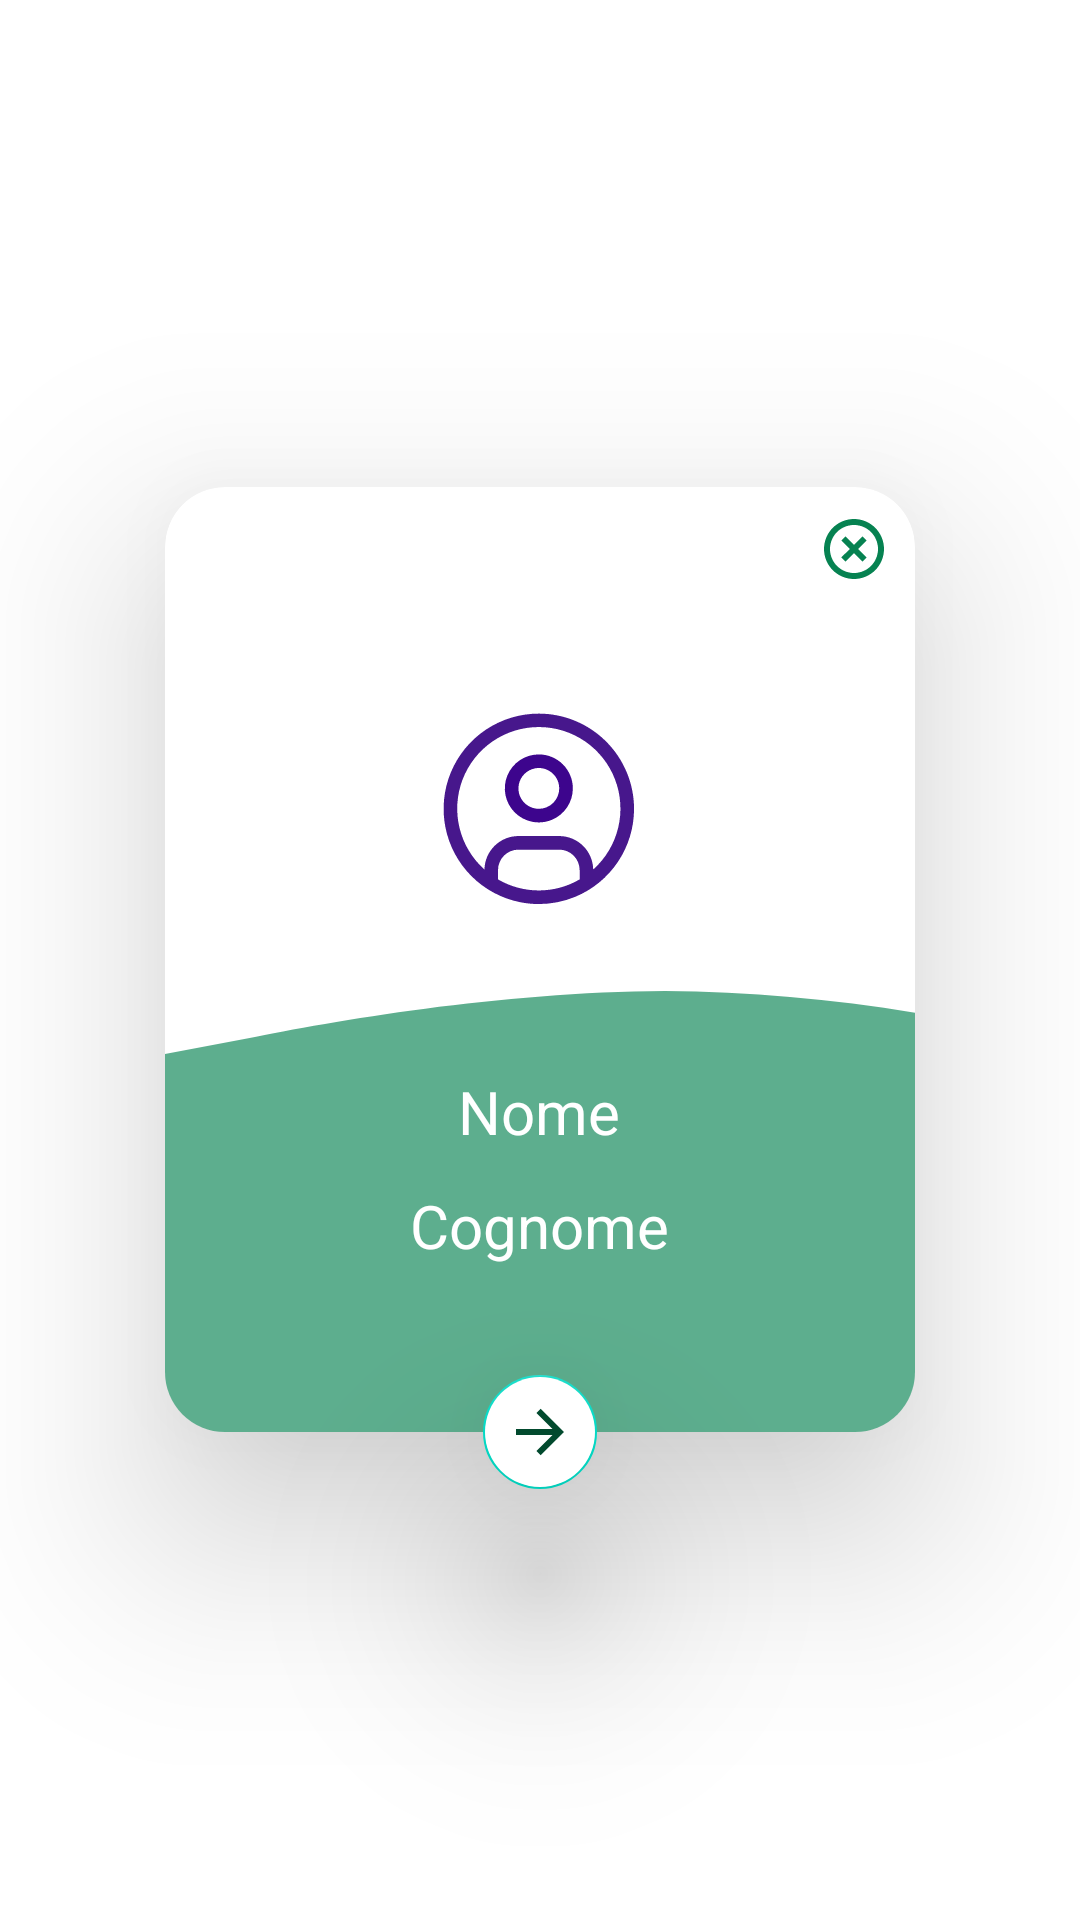

Icon click points for this 1080x1920 phone screenshot, format (x,y):
CAMBIA SUL PROFILO: (540,1432)
Close User Card: (854,549)
